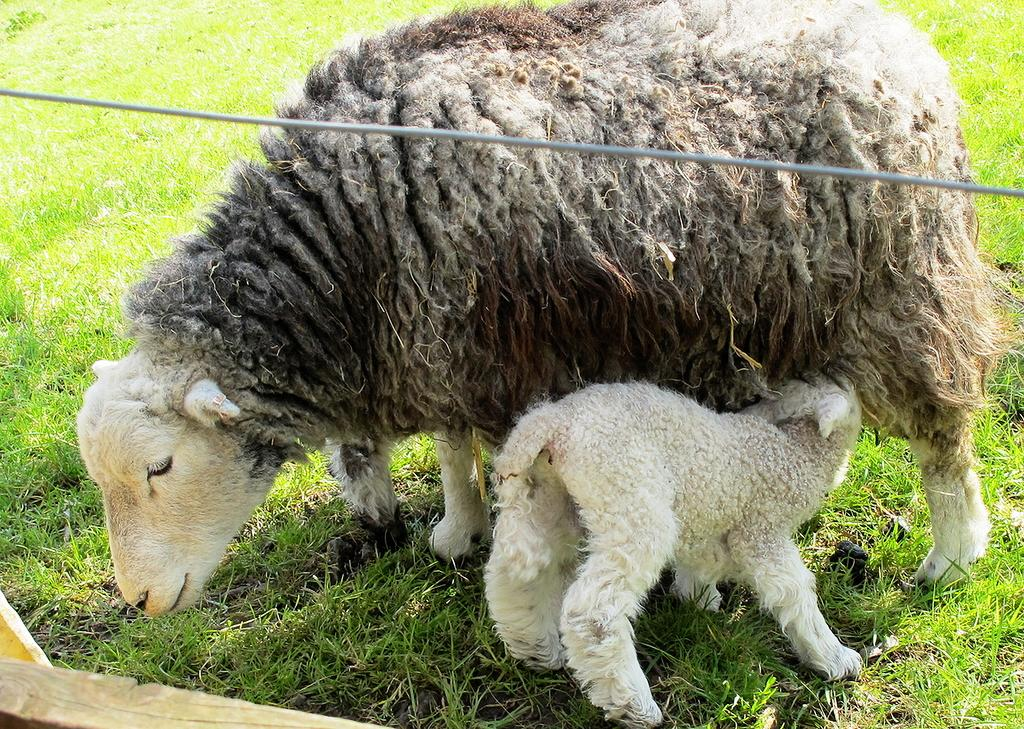Sheep: (74, 0, 1024, 620), (500, 369, 910, 699)
